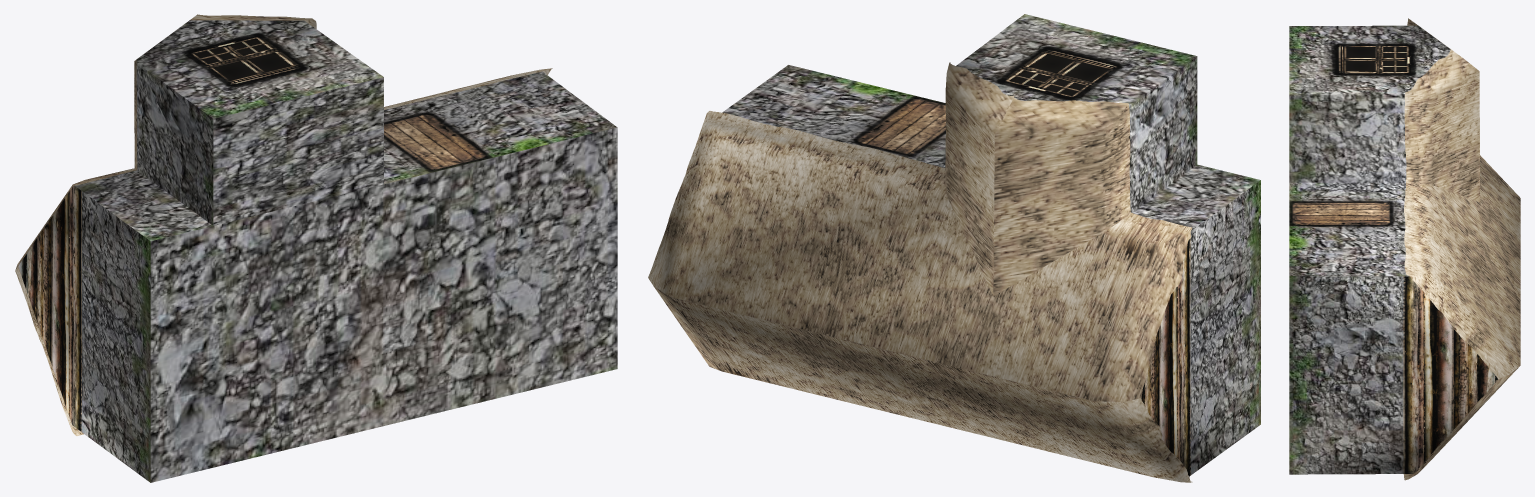
File: house.DAE
The picture shows the model from 3 angles, left to right: view 1: azimuth 30°, elevation 25°; view 2: azimuth 150°, elevation 25°; view 3: azimuth 270°, elevation 25°; orthographic projection. The views are drawn at different scales.
Visible parts, largest first — view 1: Box001; view 2: Box001; view 3: Box001.
Part boxes in pixels (bbox=[...]): Box001: bbox=[15, 14, 617, 482]; Box001: bbox=[648, 14, 1260, 482]; Box001: bbox=[1289, 18, 1520, 480].
Size of the model in its own units: 11.23 by 5.55 by 7.97.
